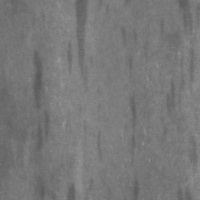inclusion: (120, 93, 148, 198), (70, 1, 95, 97), (27, 46, 49, 111), (162, 72, 186, 127), (33, 104, 54, 157), (121, 23, 143, 58), (92, 125, 108, 171), (124, 51, 138, 83)
